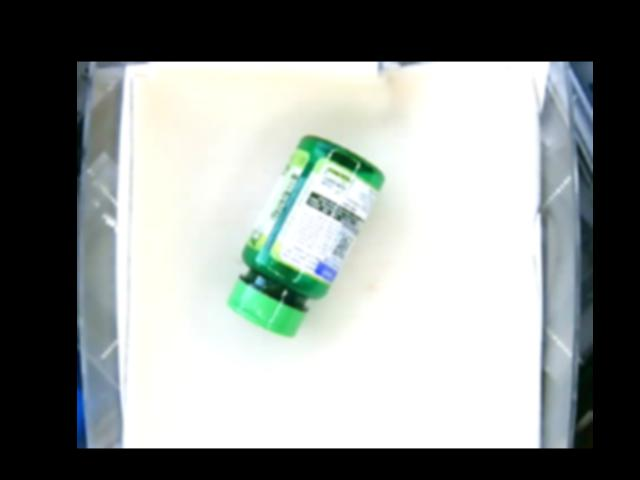Bottle: (226, 134, 384, 338)
